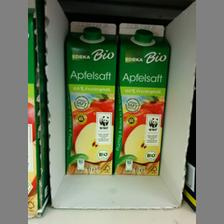Saft: (113, 20, 169, 176), (64, 20, 118, 176)
